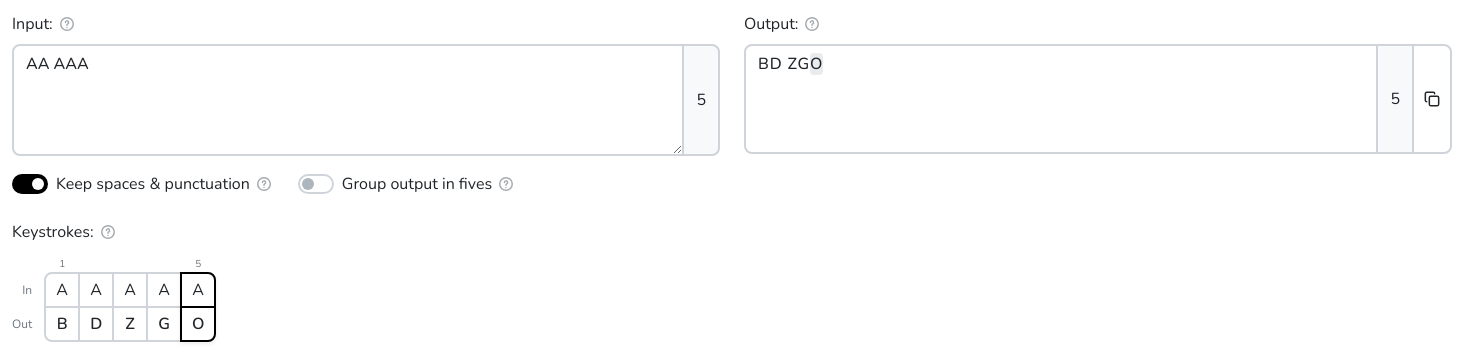
TextIO › toggles "Keep spaces & punctuation"
This screenshot has width=1464, height=361.
Expected: the field named "Output:" reads "BD ZGO", [744,44,1378,154]
Click the switch named "Keep spaces & punctuation" next to "Keep spaces & punctuation" at (30, 184), box [12,174,48,194]
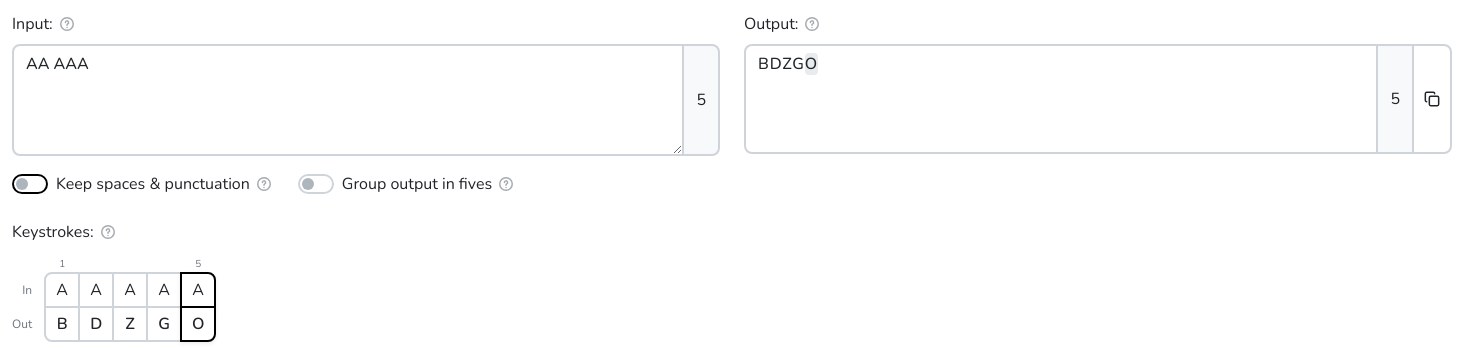
Result: the field named "Output:" reads "BDZGO" at [744,44,1378,154]
